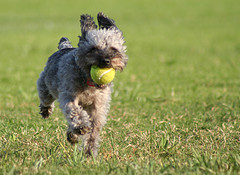tennis ball: (89, 62, 117, 87)
